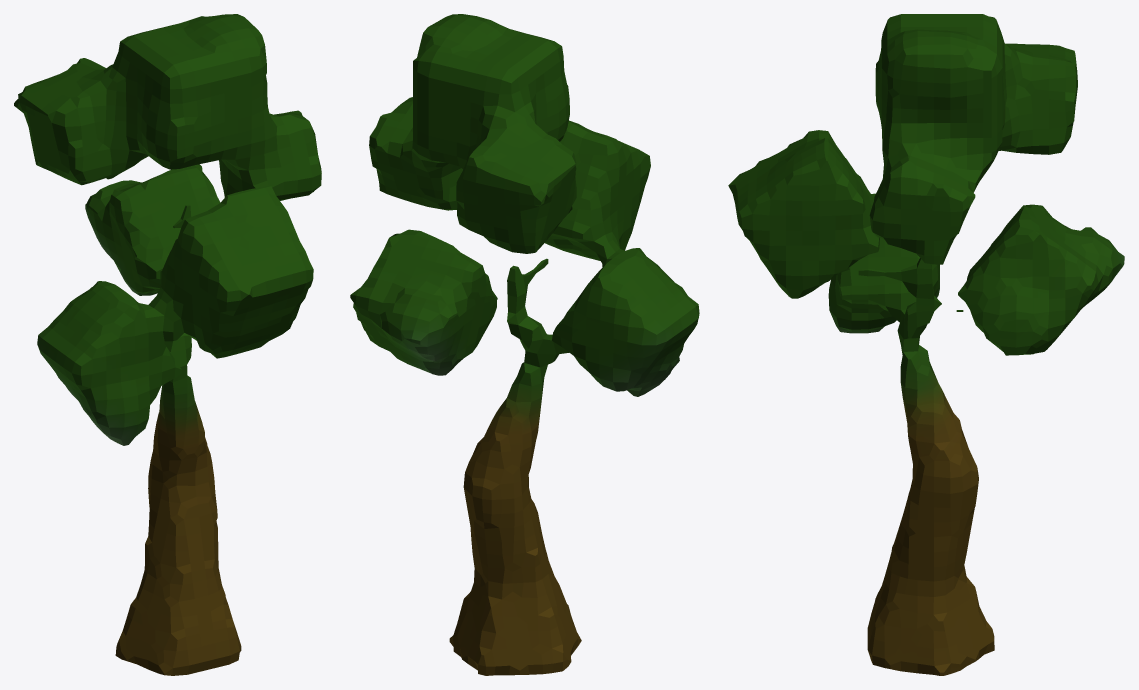
The model's file is Boxed_2.glb.
3 renders of one model, left to right at view 1: azimuth 30°, elevation 25°; view 2: azimuth 150°, elevation 25°; view 3: azimuth 270°, elevation 25°, orthographic. The views are drawn at different scales.
Parts seen in each view (by area): view 1: Boxed_2; view 2: Boxed_2; view 3: Boxed_2.
Part boxes in pixels (x1,y1,x2,y2): Boxed_2: (14,14,321,675); Boxed_2: (350,14,699,675); Boxed_2: (728,14,1124,675).
Size of the model in its own units: 1.98 by 4.25 by 2.38.
